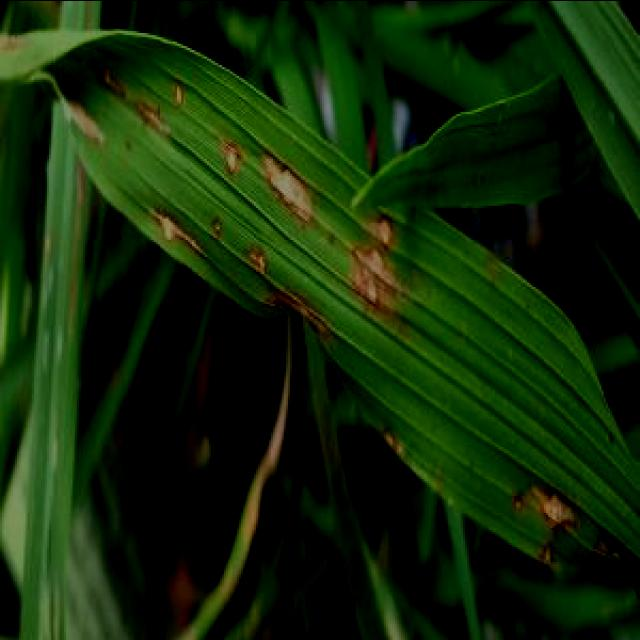Brown_Spot: (216, 137, 318, 221), (348, 214, 404, 324)
